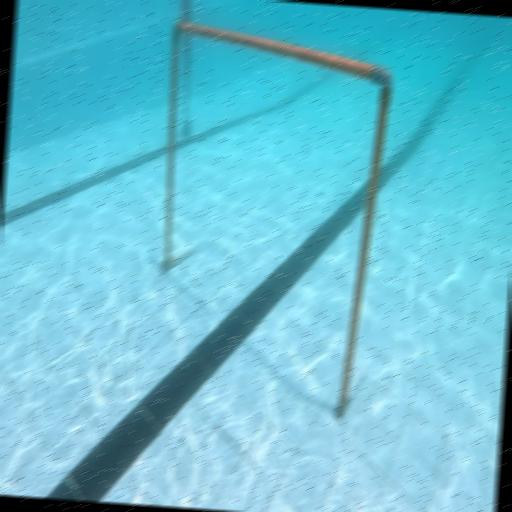gate: (146, 20, 398, 422)
